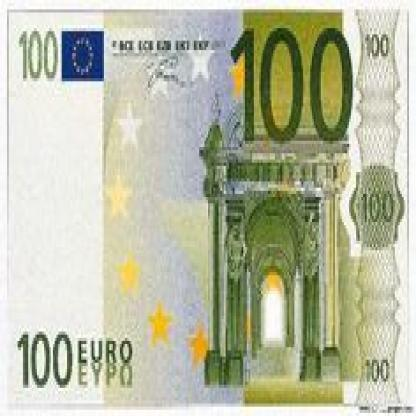billete: (5, 6, 407, 407)
